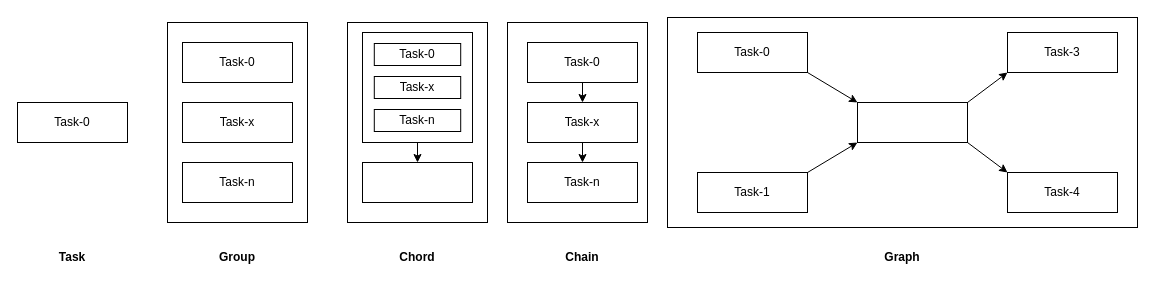
Image size: 1155x290. Some labels were removed from this diagram. Each missing label, with the box of its shape:
CallBack: (362, 162, 472, 202)
Task-2: (856, 102, 968, 142)
